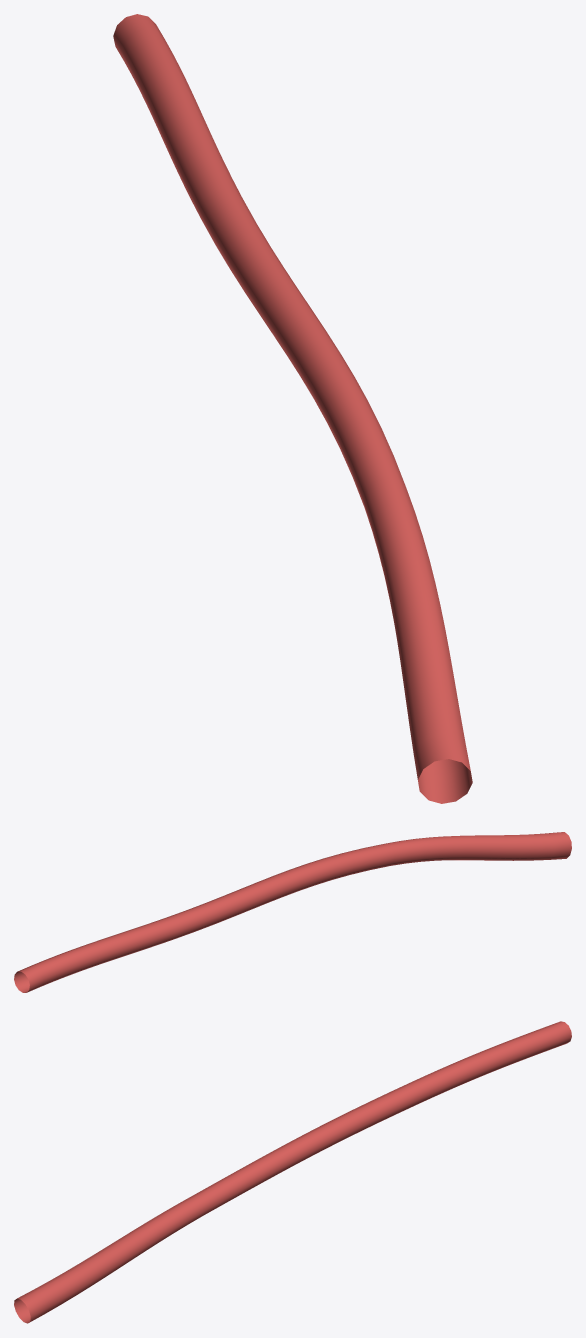
The picture shows the model from 3 angles, top to bottom: view 1: azimuth 30°, elevation 25°; view 2: azimuth 150°, elevation 25°; view 3: azimuth 330°, elevation 25°; orthographic projection. The views are drawn at different scales.
Visible parts, largest first — view 1: 左侧中副动脉; view 2: 左侧中副动脉; view 3: 左侧中副动脉.
Boxes of the visible parts, x1=… form: 左侧中副动脉: x1=113, y1=14, x2=472, y2=803; 左侧中副动脉: x1=14, y1=832, x2=571, y2=992; 左侧中副动脉: x1=14, y1=1021, x2=571, y2=1323.
Size of the model in its own units: 0.0392 by 0.0166 by 0.112.
